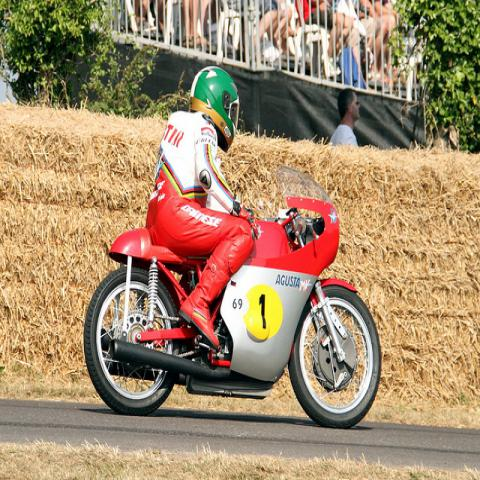motorcycle: (90, 166, 377, 419)
